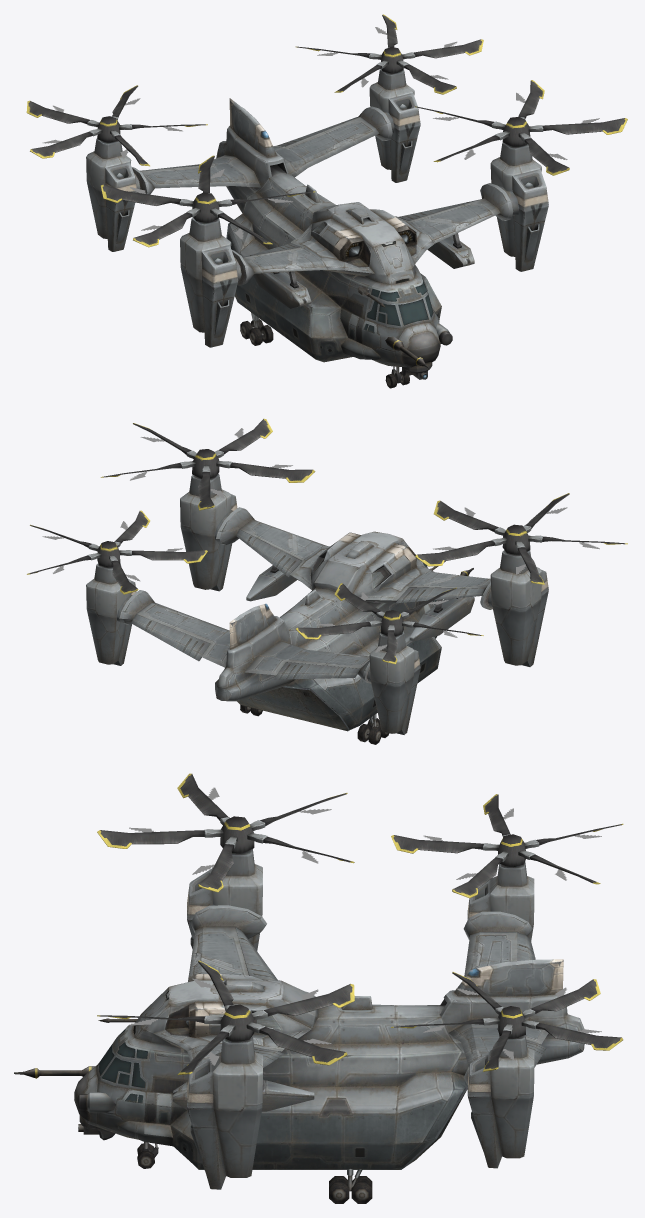
Rendered from eu_airtransport.FBX.
3 renders of one model, top to bottom at view 1: azimuth 30°, elevation 25°; view 2: azimuth 150°, elevation 25°; view 3: azimuth 270°, elevation 25°, orthographic. The views are drawn at different scales.
Parts seen in each view (by area): view 1: EU_AirTransport_FactionVehicle_2UV; view 2: EU_AirTransport_FactionVehicle_2UV; view 3: EU_AirTransport_FactionVehicle_2UV.
Part boxes in pixels (x1,y1,x2,y2): EU_AirTransport_FactionVehicle_2UV: (26, 14, 627, 388); EU_AirTransport_FactionVehicle_2UV: (27, 418, 627, 744); EU_AirTransport_FactionVehicle_2UV: (14, 773, 623, 1203).
Bounding box in the file's own units: 651 × 250 × 553.
2 materials, 1 textured.
